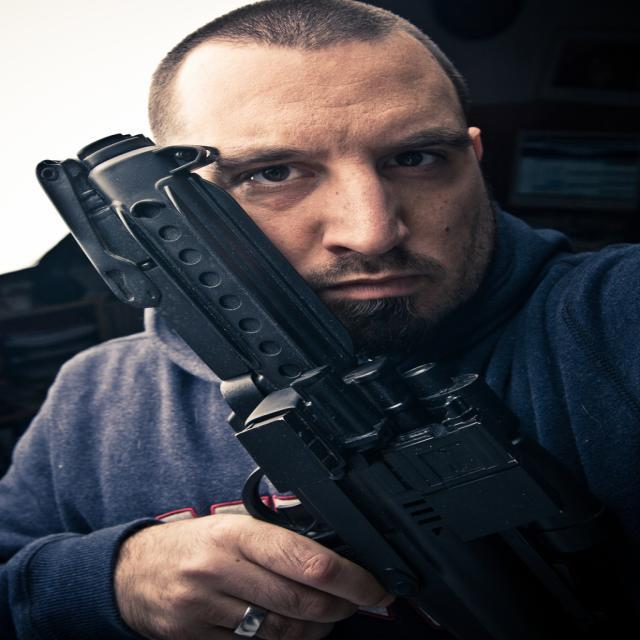Gun: (38, 135, 594, 640)
